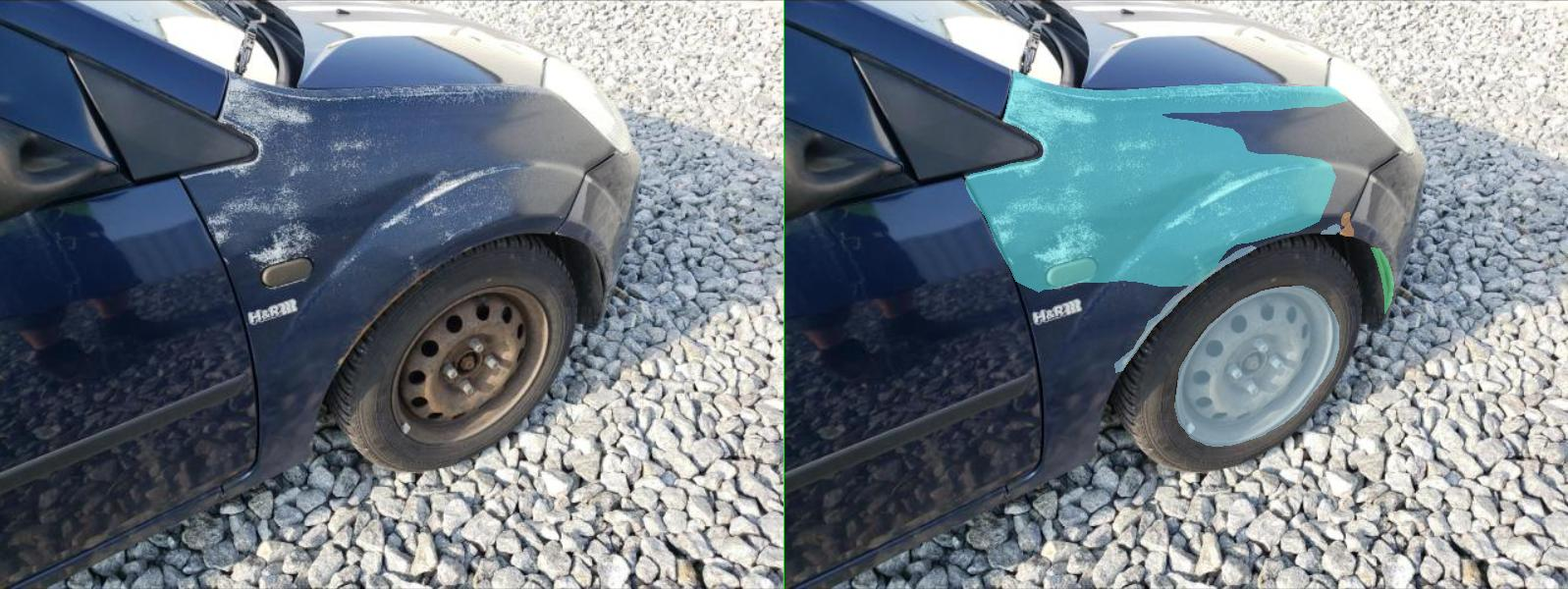Broken part: (1173, 247, 1218, 313)
Corrosion: (780, 286, 1108, 446), (660, 245, 943, 372), (1073, 224, 1112, 234)
Flaking: (362, 71, 1126, 292)
Paint chip: (1112, 212, 1138, 236)
